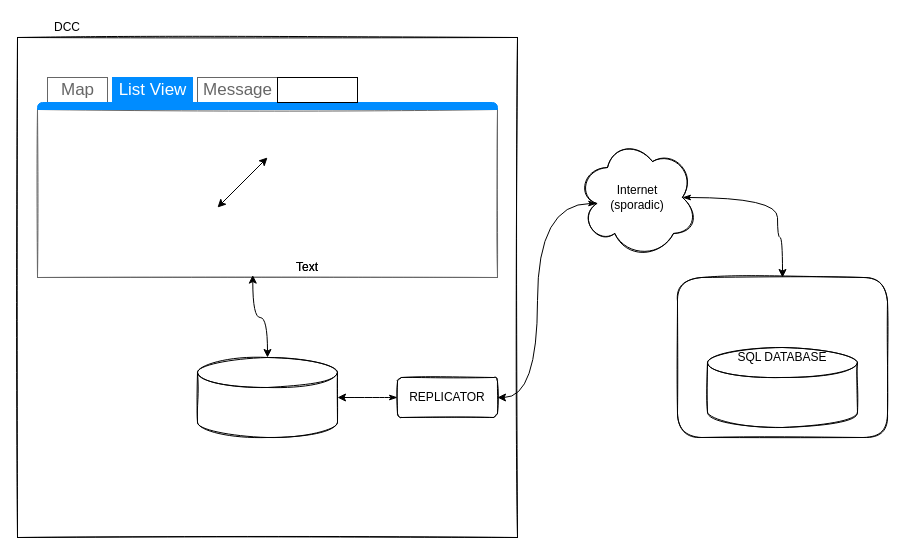
This 905x555 diagram has some shape labels left out. Here are the shapes that lost their labels. From the top down, the centre of each, then its label:
point 317,89: Graphs
point 267,397: ROM DATABASE (dynamic)
